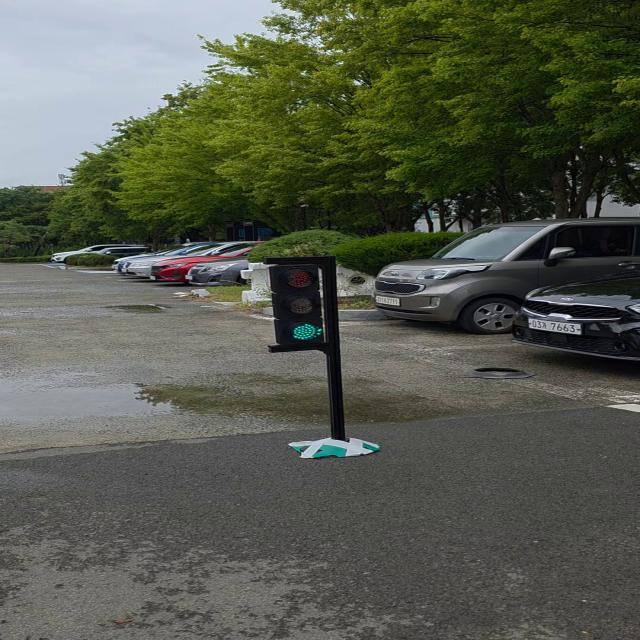green: (268, 260, 338, 350)
